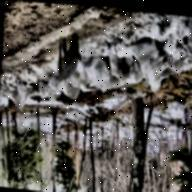boar: (55, 33, 82, 84)
